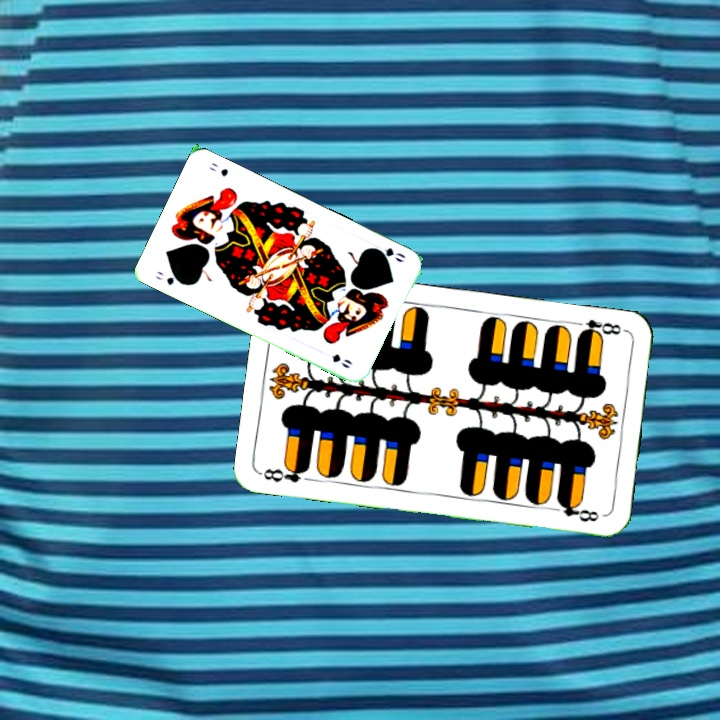E8: (569, 315, 624, 341), (258, 461, 312, 485)
GO: (370, 241, 408, 265), (151, 267, 188, 288)
